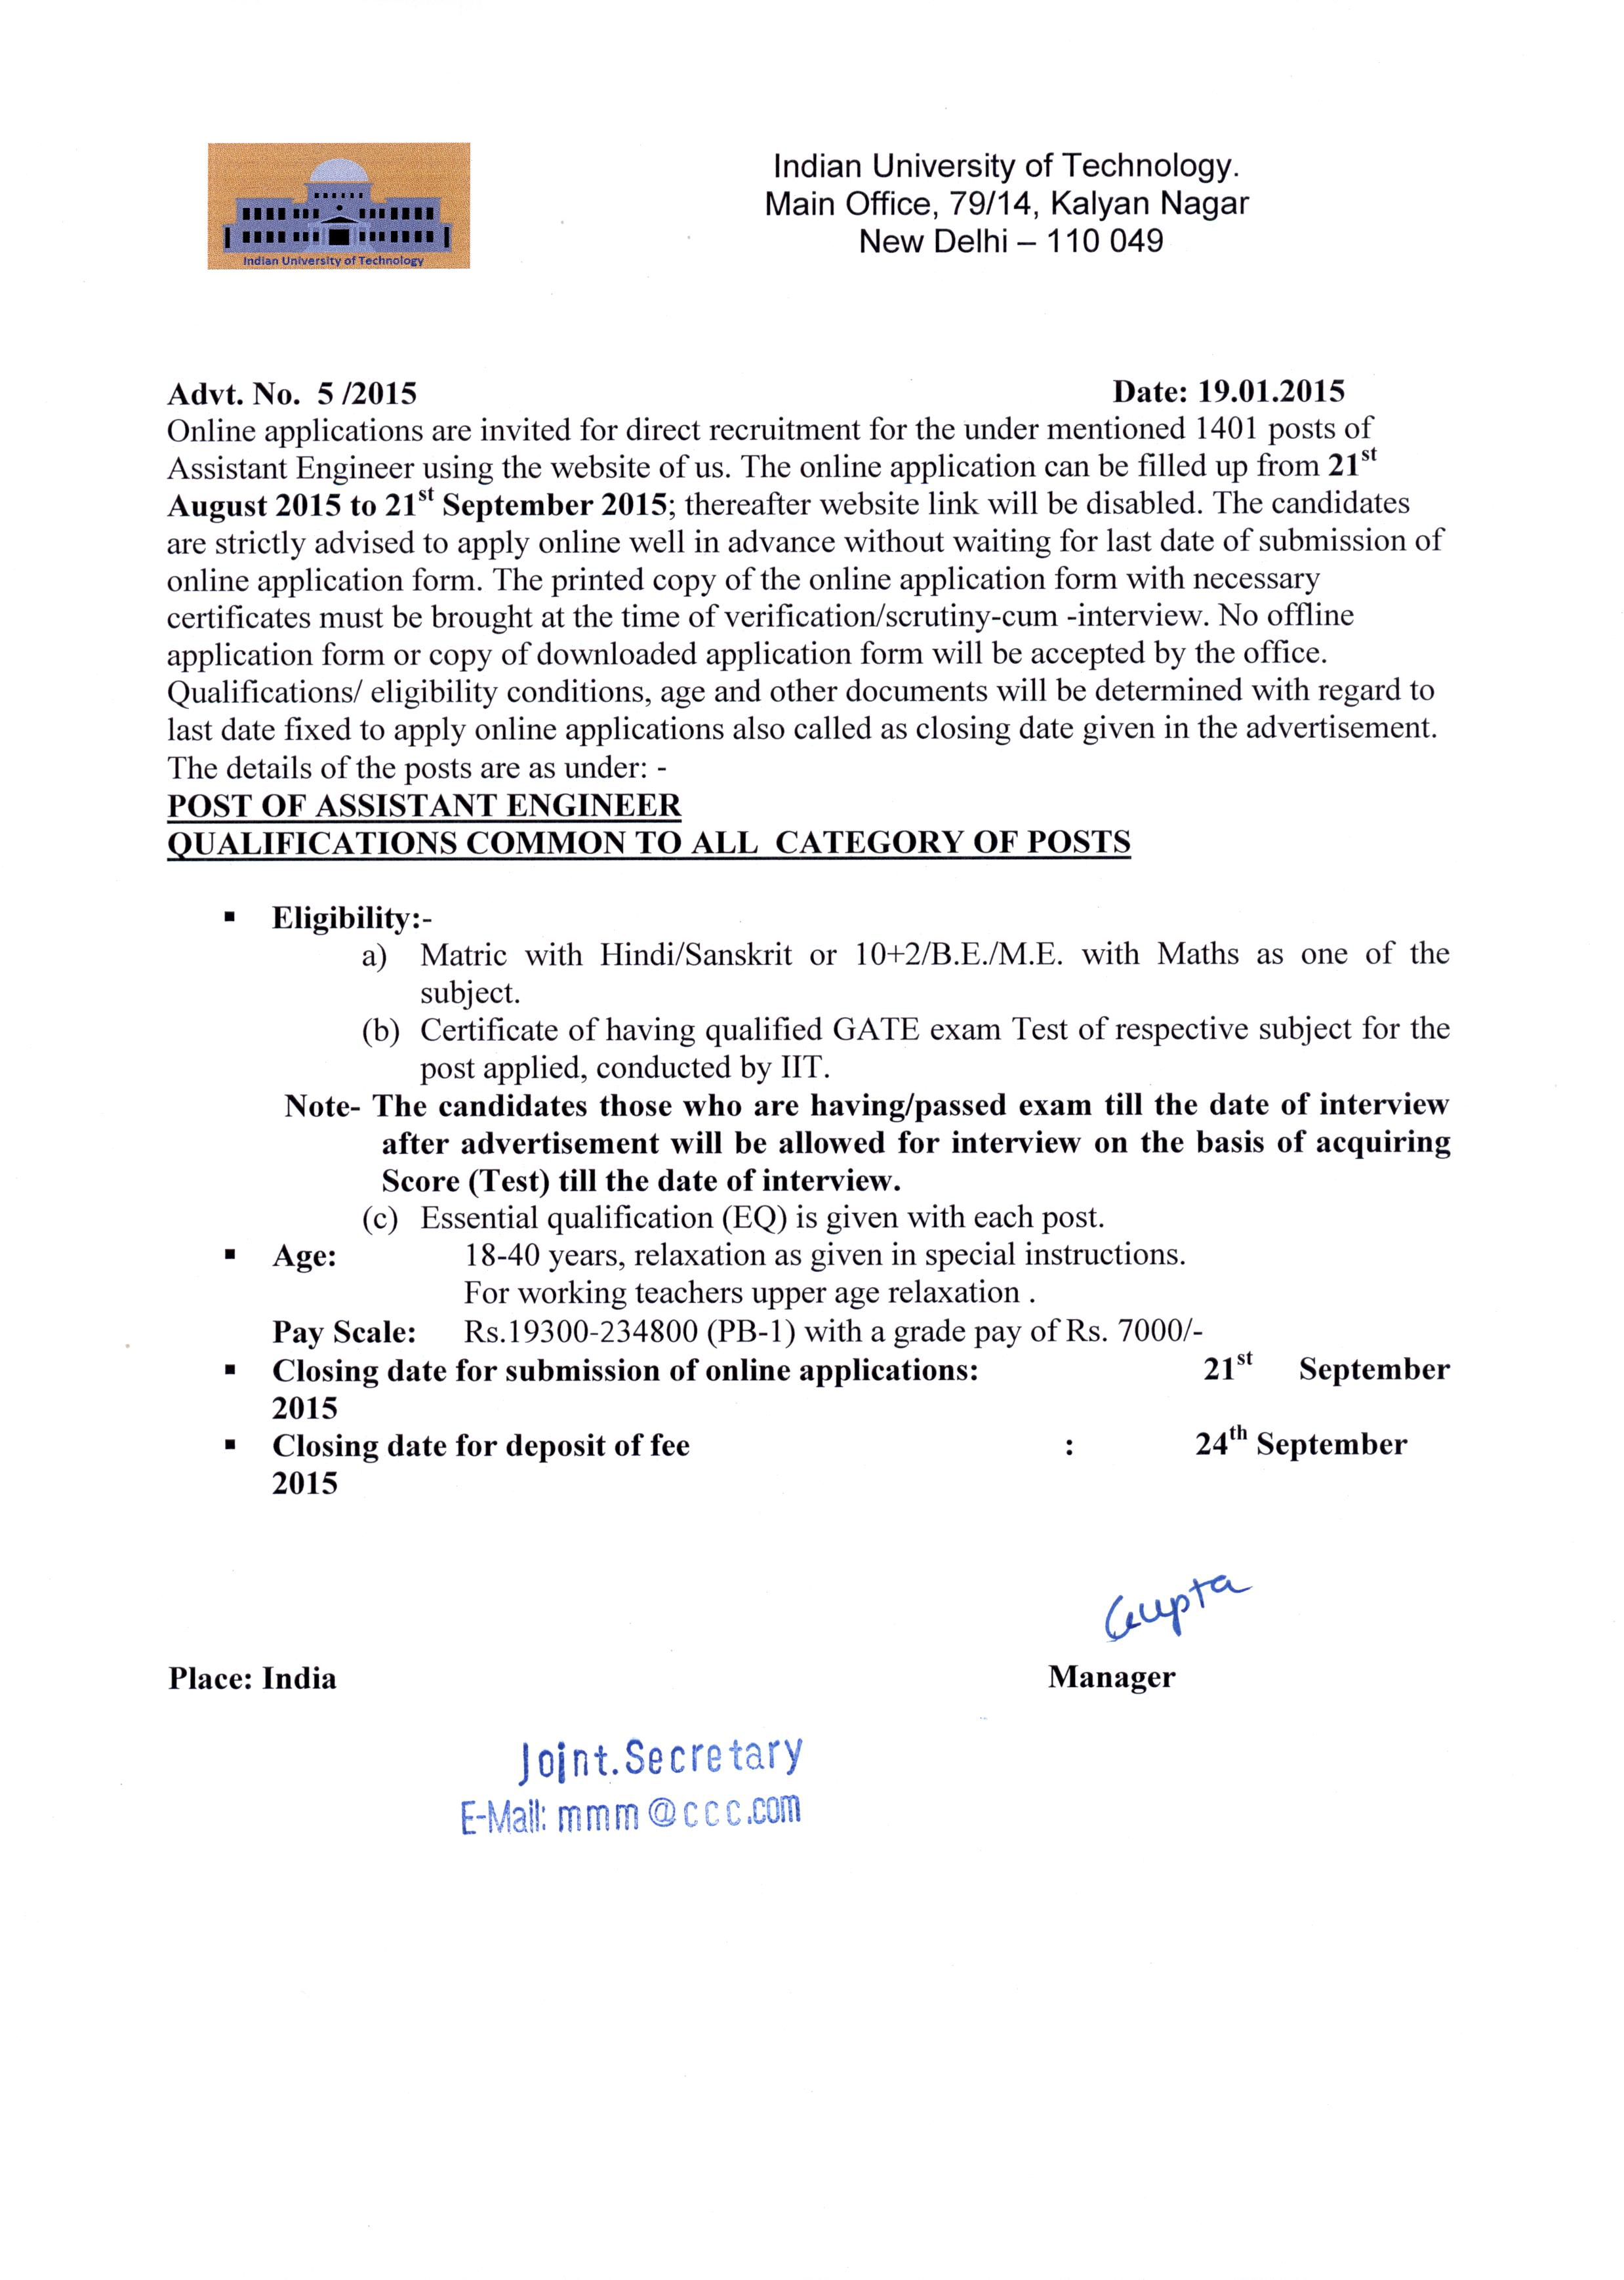Signature: (1095, 1563, 1257, 1651)
